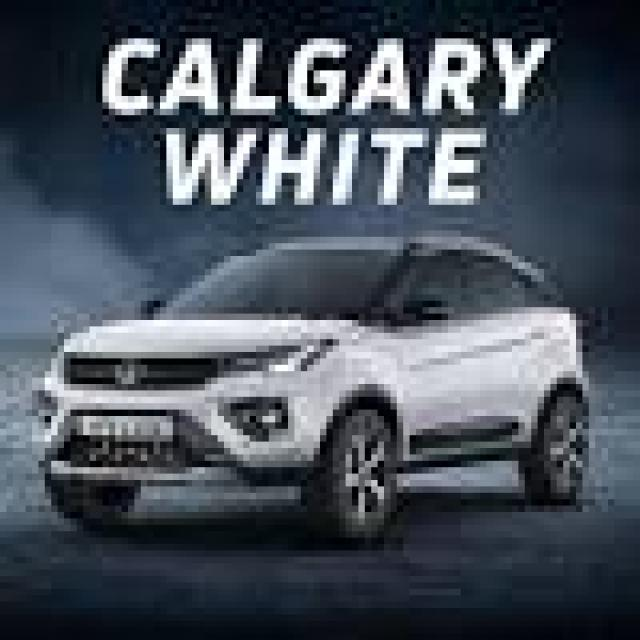SUV: (26, 229, 595, 544)
